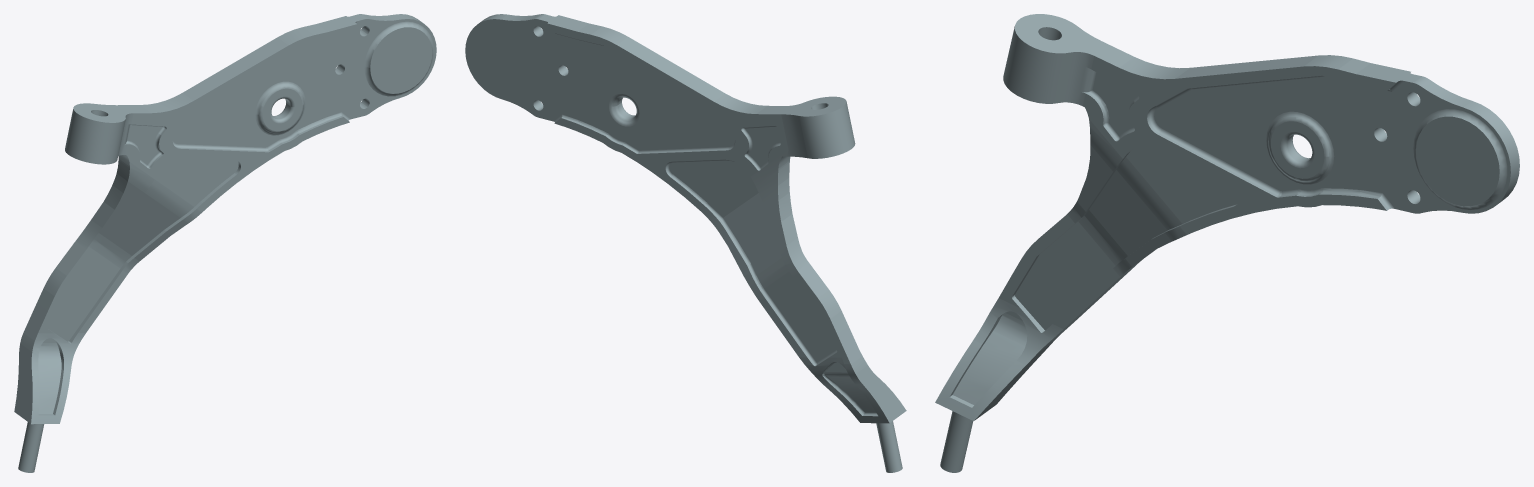
File: lower_arm.glb
3 renders of one model, left to right at view 1: azimuth 30°, elevation 25°; view 2: azimuth 150°, elevation 25°; view 3: azimuth 330°, elevation 25°, orthographic. The views are drawn at different scales.
Visible parts, largest first — view 1: empty_2; view 2: empty_2; view 3: empty_2.
Boxes of the visible parts, x1,y1,x2,y2 form: empty_2: (14,14,436,472); empty_2: (465,14,906,472); empty_2: (935,14,1519,472).
Bounding box in the file's own units: 1.73 × 1.45 × 0.2595.
